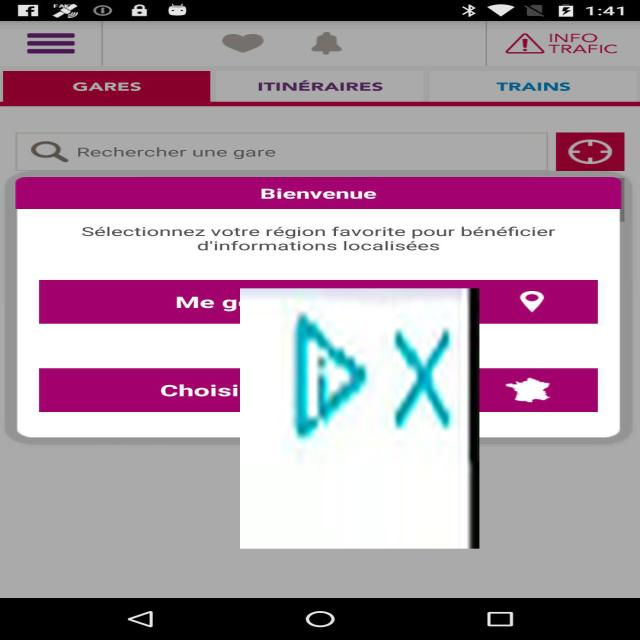sneaking: (240, 288, 479, 549)
